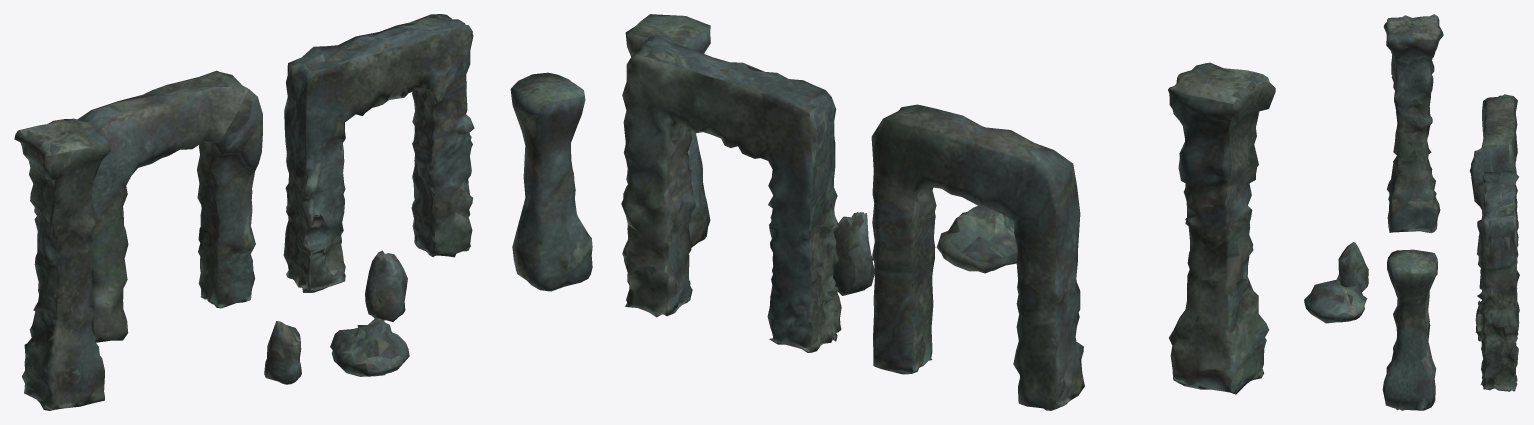
Rendered from rock-groups.glb.
The picture shows the model from 3 angles, left to right: view 1: azimuth 30°, elevation 25°; view 2: azimuth 150°, elevation 25°; view 3: azimuth 270°, elevation 25°; orthographic projection. The views are drawn at different scales.
Visible parts, largest first — view 1: Icosphere; view 2: Icosphere; view 3: Icosphere.
Boxes of the visible parts, x1=… form: Icosphere: x1=14, y1=14, x2=592, y2=410; Icosphere: x1=621, y1=14, x2=1275, y2=410; Icosphere: x1=1304, y1=14, x2=1519, y2=410.
Bounding box in the file's own units: 23.55 × 10.97 × 10.57.
Materials: 1 (1 with a texture image).
